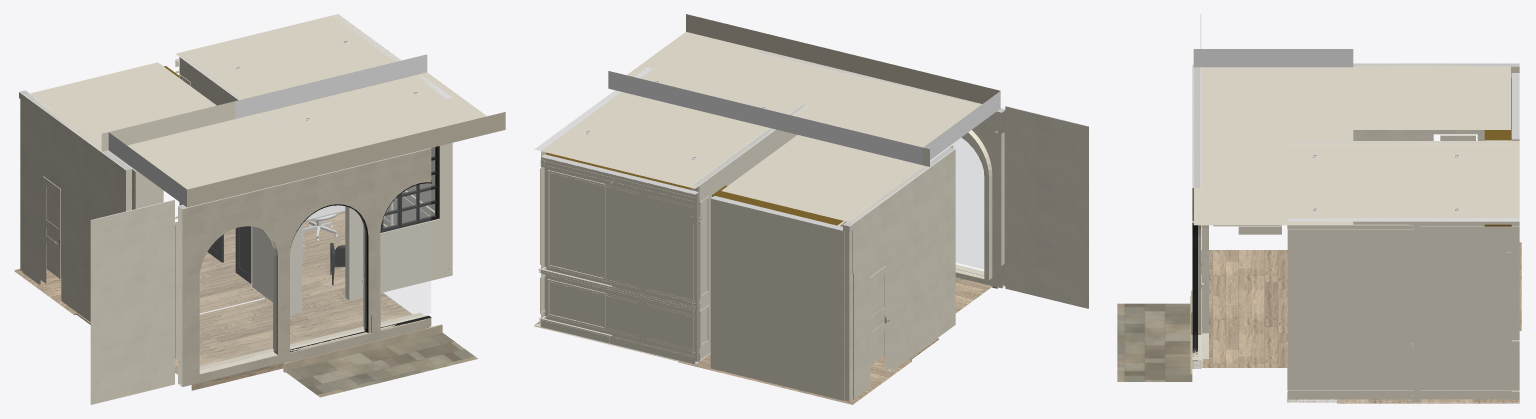
File: office-east-159a923deff2.glb
The picture shows the model from 3 angles, left to right: view 1: azimuth 30°, elevation 25°; view 2: azimuth 150°, elevation 25°; view 3: azimuth 270°, elevation 25°; orthographic projection. The views are drawn at different scales.
Visible parts, largest first — view 1: office-east-look-dbd60ee5c3733ed6, office-east-look-c9e78b9ec1bb39cd, office-east-look-d5a4a1b5d3594c04, office-east-look-6a051330000fbca1, office-east-look-2575515a05775d9e, office-east-2575515a05775d9e, office-east-look-38561c12898e4d43, office-east-look-c02a36d0521470a9, office-east-look-c374268555806af8, office-east-7dc307bfa7ee071d, office-east-look-5cbcc744e6f960f3, office-east-look-982408871810a50e (+16 smaller); view 2: office-east-look-dbd60ee5c3733ed6, office-east-look-19647d6da46c2b80, office-east-19647d6da46c2b80, office-east-look-6a051330000fbca1, office-east-look-d5a4a1b5d3594c04, office-east-2575515a05775d9e, office-east-look-2575515a05775d9e, office-east-72f8f5982ac3dc36, office-east-look-38561c12898e4d43, office-east-look-c9e78b9ec1bb39cd, office-east-dbd60ee5c3733ed6, office-east-look-1109284a531c9f8c (+16 smaller); view 3: office-east-6a1144f4e43410bb, office-east-look-dbd60ee5c3733ed6, office-east-2575515a05775d9e, office-east-look-2575515a05775d9e, office-east-look-c374268555806af8, office-east-look-982408871810a50e, office-east-dbd60ee5c3733ed6, office-east-2c29ddcb8551cb02, office-east-7dc307bfa7ee071d, office-east-look-c9e78b9ec1bb39cd, office-east-look-6a051330000fbca1, office-east-e54d813e60c9e7c4 (+14 smaller).
Boxes of the visible parts, x1=… form: office-east-look-dbd60ee5c3733ed6: x1=108, y1=54, x2=505, y2=207; office-east-look-c9e78b9ec1bb39cd: x1=178, y1=148, x2=431, y2=386; office-east-look-d5a4a1b5d3594c04: x1=90, y1=199, x2=174, y2=404; office-east-look-6a051330000fbca1: x1=19, y1=90, x2=136, y2=321; office-east-look-2575515a05775d9e: x1=24, y1=62, x2=235, y2=151; office-east-2575515a05775d9e: x1=175, y1=14, x2=420, y2=113; office-east-look-38561c12898e4d43: x1=200, y1=226, x2=276, y2=369; office-east-look-c02a36d0521470a9: x1=290, y1=205, x2=366, y2=347; office-east-look-c374268555806af8: x1=175, y1=292, x2=429, y2=390; office-east-7dc307bfa7ee071d: x1=293, y1=97, x2=445, y2=313; office-east-look-5cbcc744e6f960f3: x1=380, y1=183, x2=430, y2=324; office-east-look-982408871810a50e: x1=283, y1=332, x2=477, y2=397; office-east-look-dbd60ee5c3733ed6: x1=608, y1=14, x2=1000, y2=165; office-east-look-19647d6da46c2b80: x1=710, y1=195, x2=842, y2=400; office-east-19647d6da46c2b80: x1=541, y1=154, x2=699, y2=364; office-east-look-6a051330000fbca1: x1=843, y1=144, x2=955, y2=401; office-east-look-d5a4a1b5d3594c04: x1=1005, y1=106, x2=1088, y2=308; office-east-2575515a05775d9e: x1=541, y1=92, x2=765, y2=188; office-east-look-2575515a05775d9e: x1=721, y1=135, x2=929, y2=222; office-east-72f8f5982ac3dc36: x1=692, y1=104, x2=807, y2=361; office-east-look-38561c12898e4d43: x1=930, y1=138, x2=983, y2=269; office-east-look-c9e78b9ec1bb39cd: x1=756, y1=50, x2=1005, y2=288; office-east-dbd60ee5c3733ed6: x1=615, y1=67, x2=793, y2=129; office-east-look-1109284a531c9f8c: x1=955, y1=130, x2=992, y2=280; office-east-6a1144f4e43410bb: x1=1287, y1=218, x2=1519, y2=402; office-east-look-dbd60ee5c3733ed6: x1=1193, y1=49, x2=1353, y2=225; office-east-2575515a05775d9e: x1=1353, y1=141, x2=1519, y2=221; office-east-look-2575515a05775d9e: x1=1353, y1=63, x2=1510, y2=129; office-east-look-c374268555806af8: x1=1192, y1=250, x2=1287, y2=367; office-east-look-982408871810a50e: x1=1117, y1=303, x2=1192, y2=381; office-east-dbd60ee5c3733ed6: x1=1287, y1=141, x2=1353, y2=221; office-east-2c29ddcb8551cb02: x1=1287, y1=390, x2=1519, y2=399; office-east-7dc307bfa7ee071d: x1=1287, y1=144, x2=1295, y2=390; office-east-look-c9e78b9ec1bb39cd: x1=1192, y1=64, x2=1201, y2=368; office-east-look-6a051330000fbca1: x1=1353, y1=63, x2=1519, y2=140; office-east-e54d813e60c9e7c4: x1=1300, y1=226, x2=1519, y2=234.
Size of the model in its own units: 7.25 by 3.46 by 6.07.
26 materials, 7 textured.
